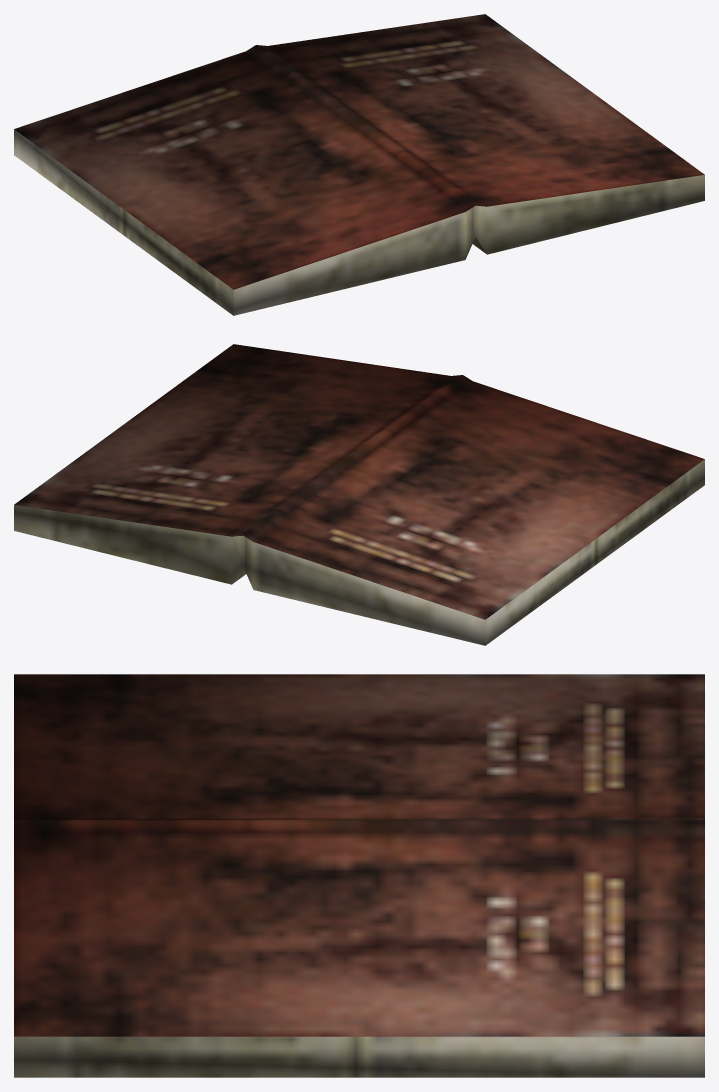
File: M_Home_Garden_book1.fbx
3 renders of one model, top to bottom at view 1: azimuth 30°, elevation 25°; view 2: azimuth 150°, elevation 25°; view 3: azimuth 270°, elevation 25°, orthographic. The views are drawn at different scales.
Visible parts, largest first — view 1: M_Home_Garden_book1; view 2: M_Home_Garden_book1; view 3: M_Home_Garden_book1.
Part boxes in pixels (x1=…): M_Home_Garden_book1: x1=14, y1=14, x2=704, y2=315; M_Home_Garden_book1: x1=14, y1=344, x2=704, y2=645; M_Home_Garden_book1: x1=14, y1=674, x2=704, y2=1077.
Size of the model in its own units: 63.47 by 6.68 by 51.2.
